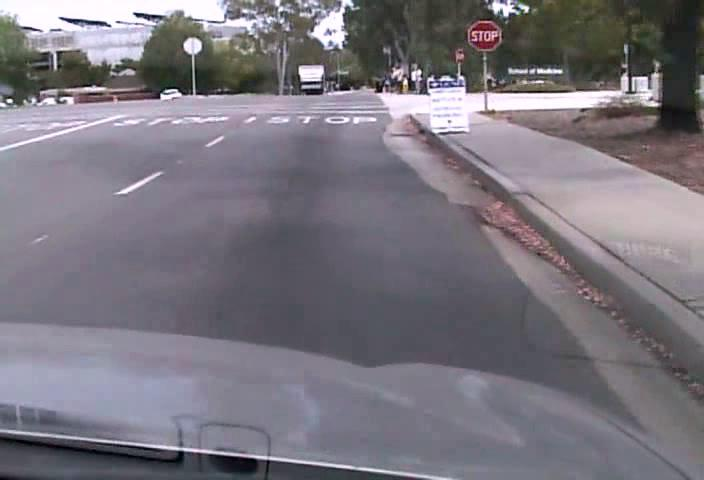stop: (467, 20, 501, 52)
